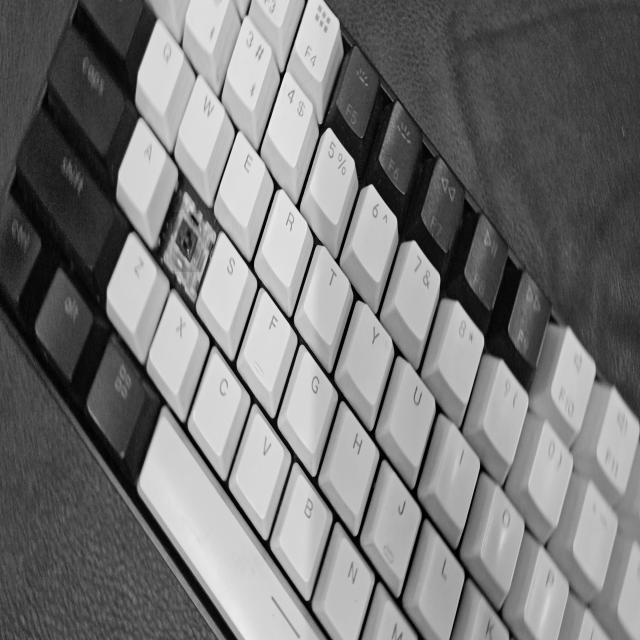C: (172, 212, 203, 272)
